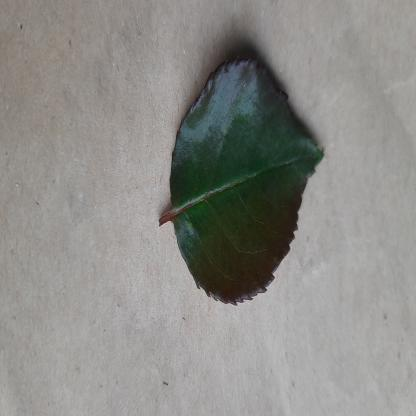normal: (169, 57, 326, 310)
